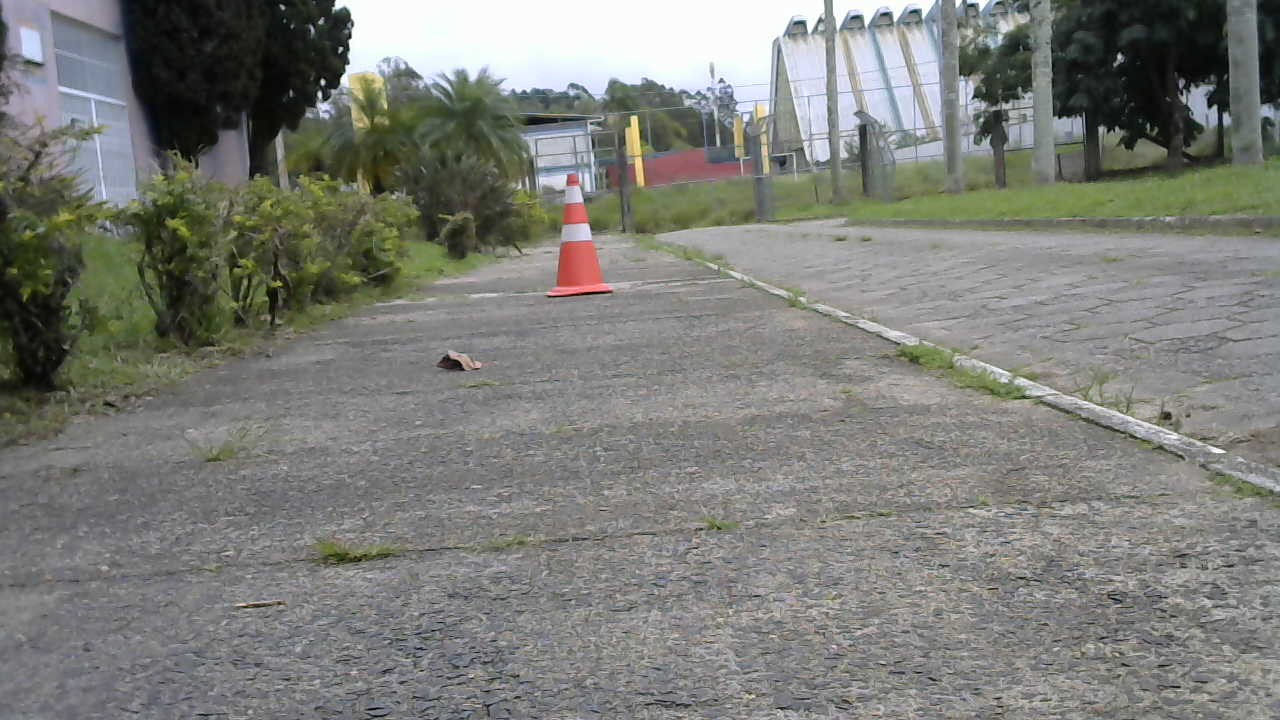cone: (550, 169, 615, 302)
